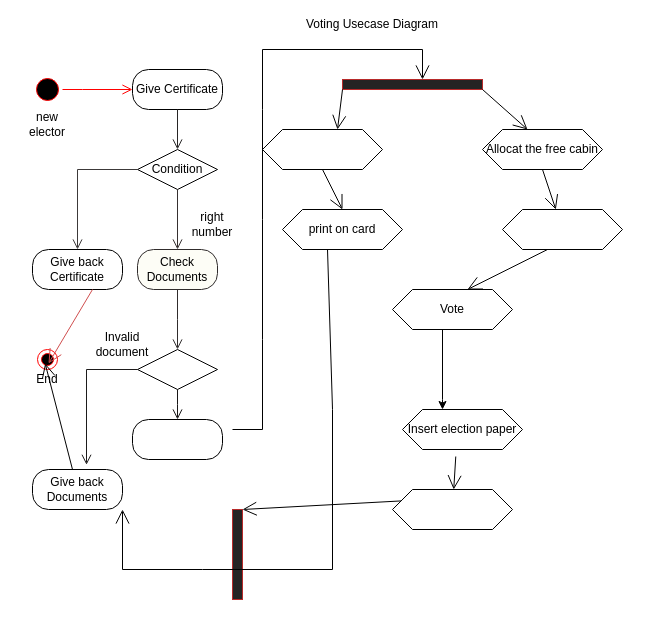
Image size: 659x617. Some labels were removed from this diagram. The box of each missing label's shape, as (x1, y1, x2, y2) in pixels:
Give back pencil: (392, 488, 512, 530)
Give election Paper: (132, 418, 222, 460)
Give Pencil: (502, 208, 622, 250)
sign Registry: (262, 128, 382, 170)
